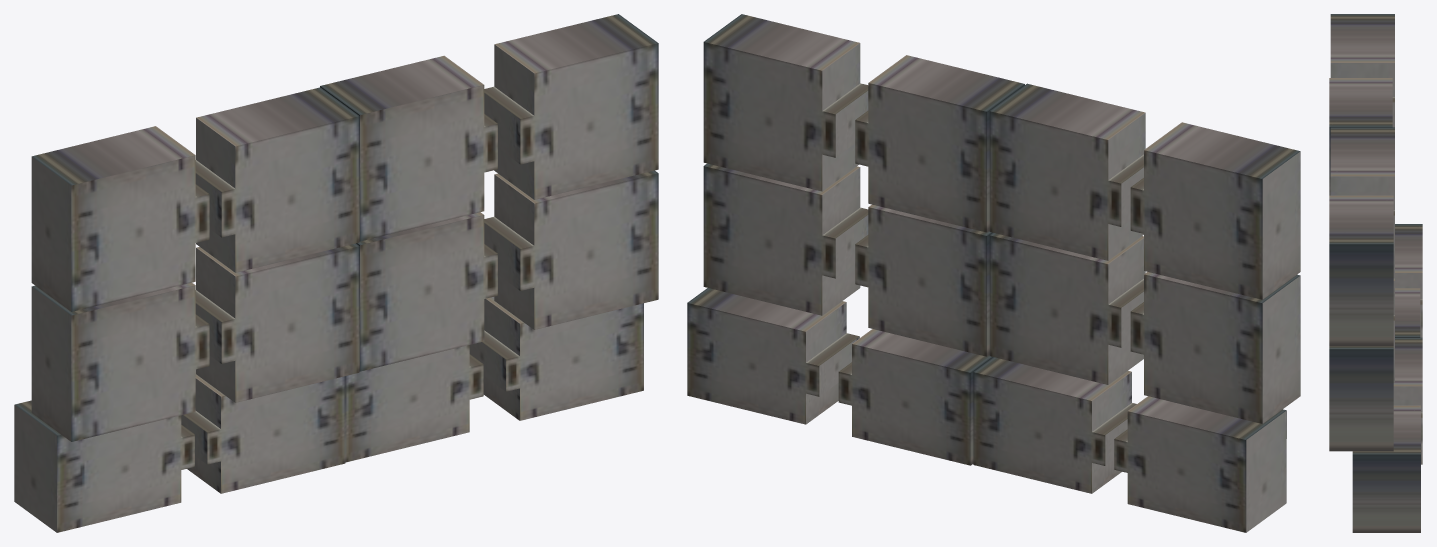
The model's file is s4_truss_23_all_batteries_isolated.dae.
The picture shows the model from 3 angles, left to right: view 1: azimuth 30°, elevation 25°; view 2: azimuth 150°, elevation 25°; view 3: azimuth 270°, elevation 25°; orthographic projection. The views are drawn at different scales.
Visible parts, largest first — view 1: 23 S4 Truss; view 2: 23 S4 Truss; view 3: 23 S4 Truss.
Part boxes in pixels (x1=…): 23 S4 Truss: x1=14, y1=14, x2=658, y2=532; 23 S4 Truss: x1=687, y1=14, x2=1300, y2=532; 23 S4 Truss: x1=1329, y1=14, x2=1422, y2=532.
Size of the model in its own units: 4.46 by 0.763 by 2.6.
Materials: 2 (2 with a texture image).
